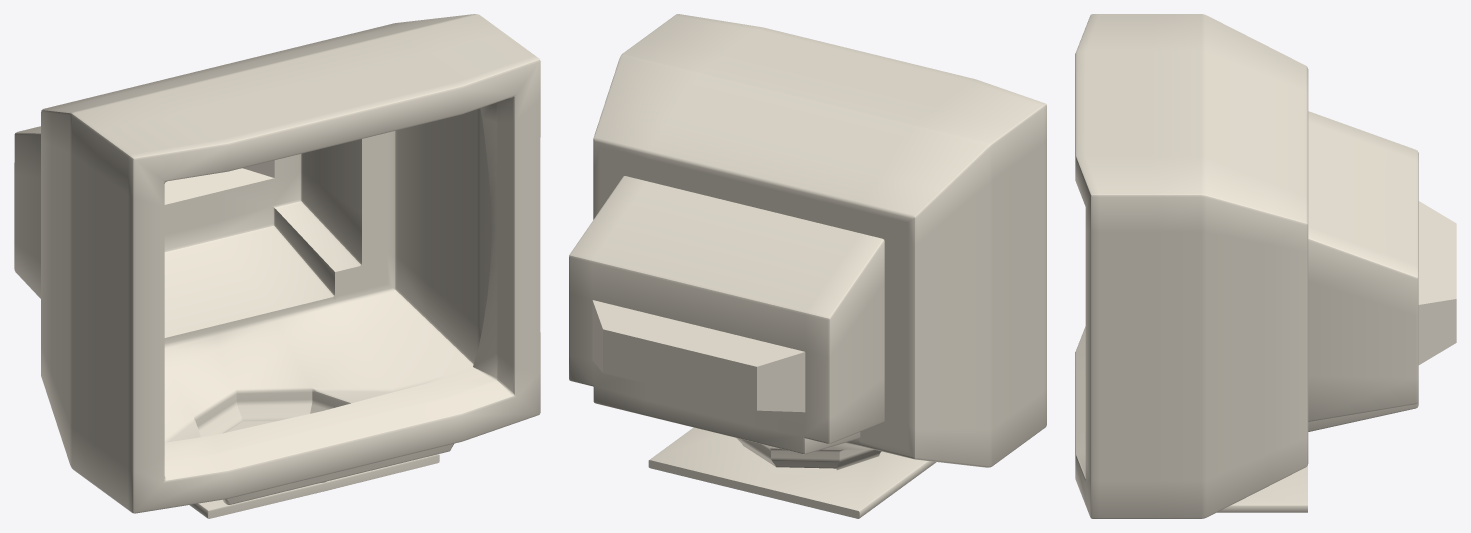
File: monitor.gltf
3 renders of one model, left to right at view 1: azimuth 30°, elevation 25°; view 2: azimuth 150°, elevation 25°; view 3: azimuth 270°, elevation 25°, orthographic. The views are drawn at different scales.
Visible parts, largest first — view 1: monitor; view 2: monitor; view 3: monitor.
Part boxes in pixels (bbox=[...]): monitor: bbox=[14, 14, 540, 518]; monitor: bbox=[569, 14, 1046, 518]; monitor: bbox=[1075, 14, 1456, 518].
Size of the model in its own units: 0.42 by 0.3854 by 0.3723.
